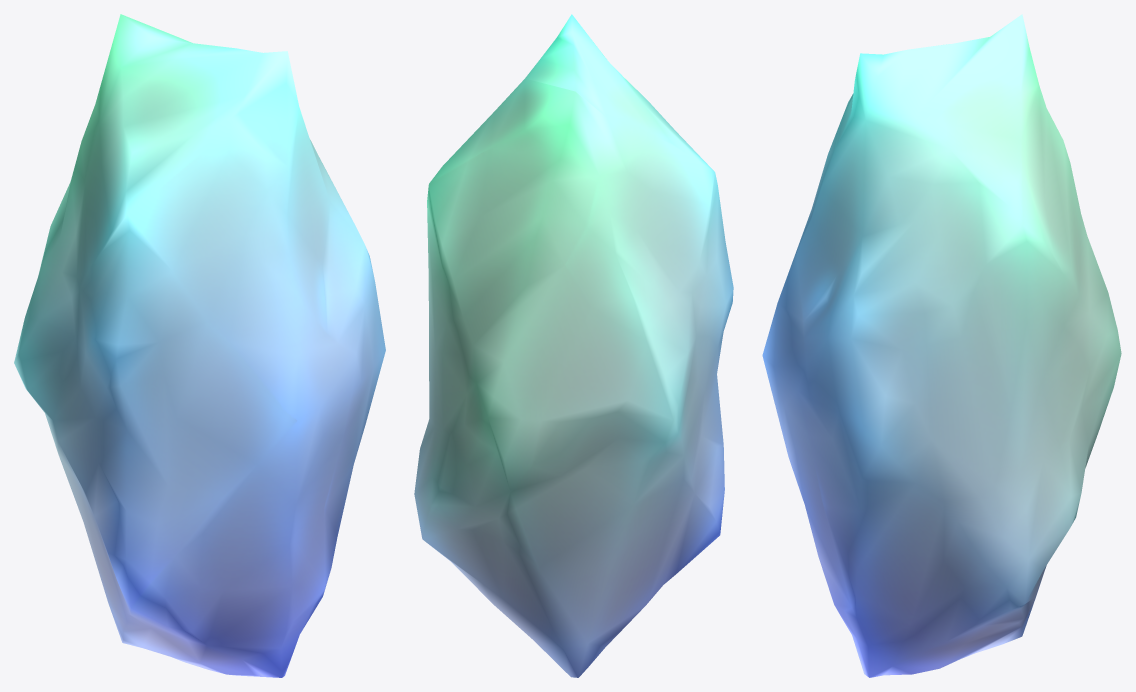
The picture shows the model from 3 angles, left to right: view 1: azimuth 30°, elevation 25°; view 2: azimuth 150°, elevation 25°; view 3: azimuth 270°, elevation 25°; orthographic projection. The views are drawn at different scales.
Parts seen in each view (by area): view 1: pPlatonic1; view 2: pPlatonic1; view 3: pPlatonic1.
Boxes of the visible parts, x1,y1,x2,y2 form: pPlatonic1: (14,14,385,677); pPlatonic1: (414,14,733,677); pPlatonic1: (762,14,1121,677).
Size of the model in its own units: 0.019 by 0.0399 by 0.0205.
